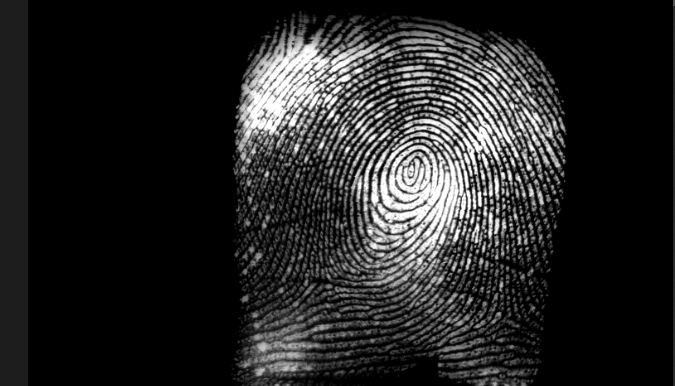deltas: (473, 295, 536, 349), (292, 248, 347, 300)
nucleo: (394, 142, 432, 194)
